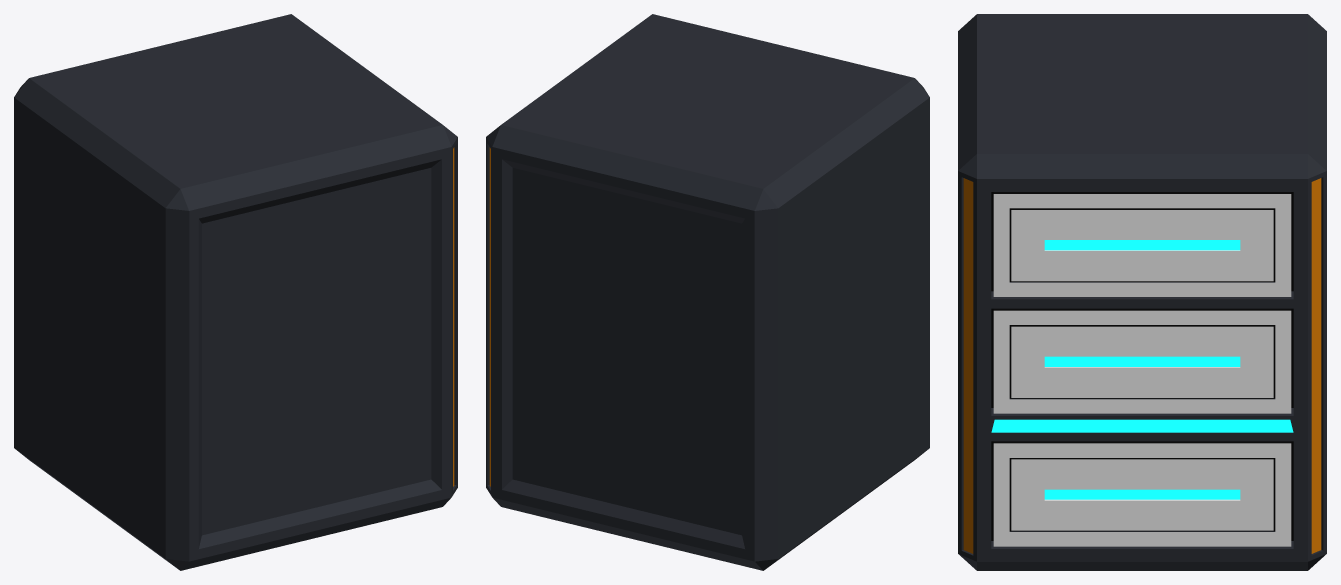
Rendered from SM_Data_Cabinet.fbx.
3 views of the same model, side by side, from view 1: azimuth 30°, elevation 25°; view 2: azimuth 150°, elevation 25°; view 3: azimuth 270°, elevation 25° (orthographic). The views are drawn at different scales.
Visible parts, largest first — view 1: SM_Data_Cabinet; view 2: SM_Data_Cabinet; view 3: SM_Data_Cabinet.
Part boxes in pixels (x1=…): SM_Data_Cabinet: x1=14, y1=14, x2=457, y2=570; SM_Data_Cabinet: x1=486, y1=14, x2=929, y2=570; SM_Data_Cabinet: x1=958, y1=14, x2=1326, y2=570.
Bounding box in the file's own units: 40 × 49.93 × 40.
